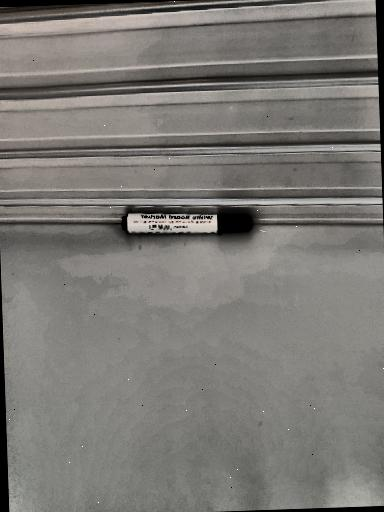marcador negro: (121, 213, 252, 234)
